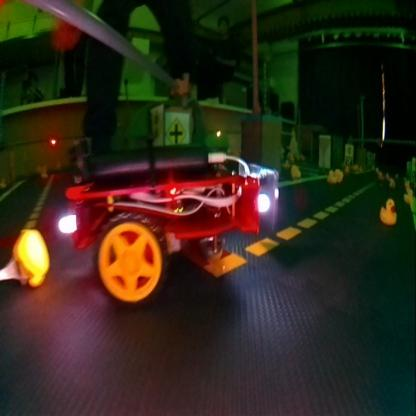Duckie: (13, 227, 47, 288), (380, 198, 396, 224), (328, 170, 336, 182), (335, 169, 342, 182), (290, 165, 298, 176), (389, 178, 394, 186)
Duckiebot: (64, 146, 278, 300)
Intersection sign: (166, 118, 187, 145)
Signal sign: (149, 108, 161, 140)
